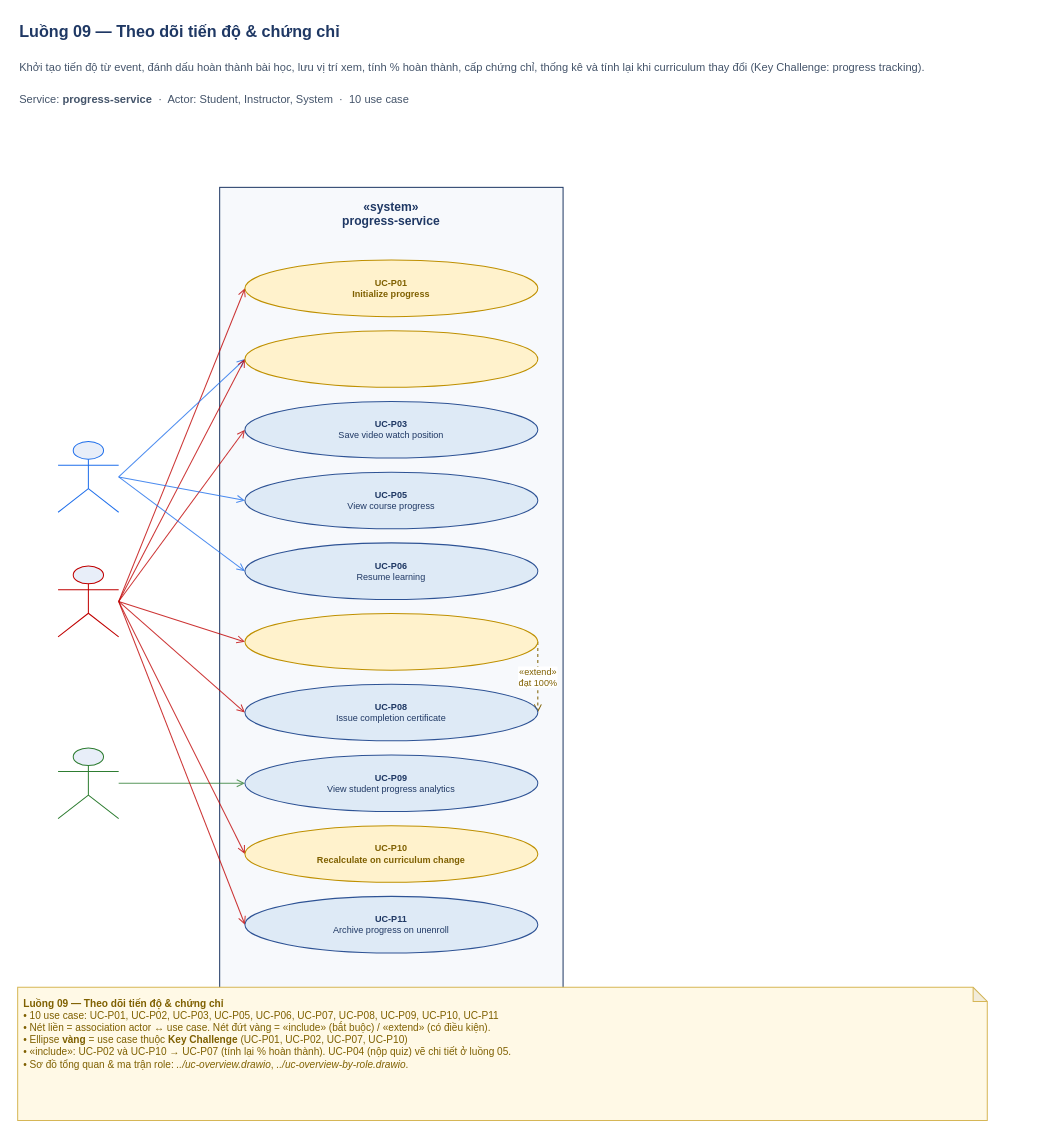
Image size: 1045x1138. Some labels were removed from this diagram. Here are the shapes that lost their labels. From the top down, the centre of each, then its label:
the point at 391,358: UC-P02 Mark lesson as completed
the point at 88,476: Student
the point at 88,601: System
the point at 391,641: UC-P07 Calculate completion percentage
the point at 88,783: Instructor
